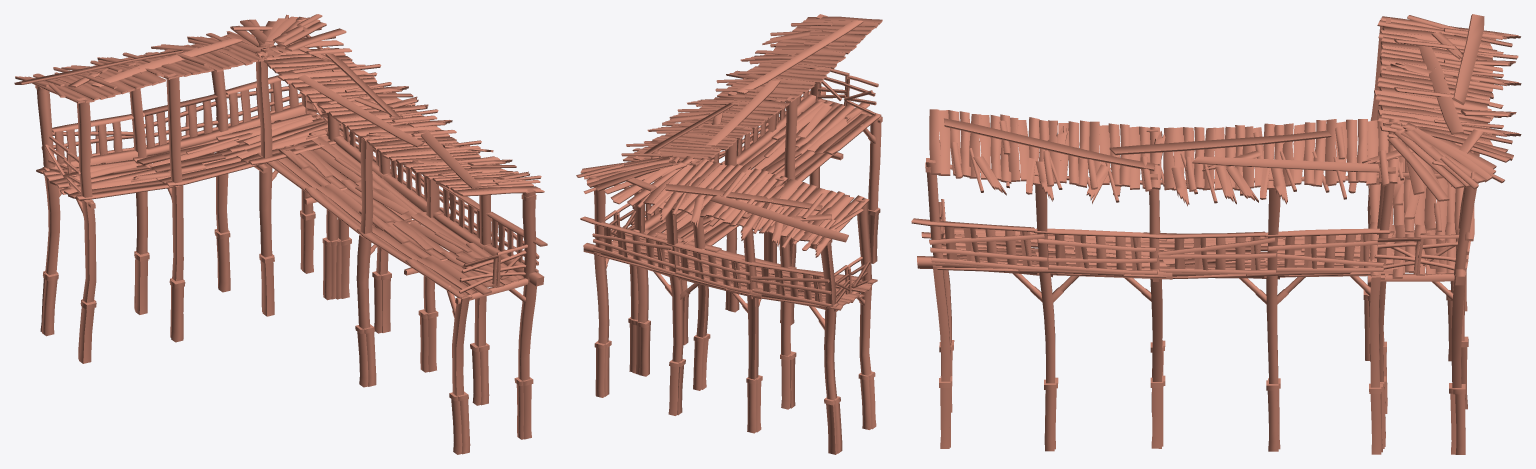
The model's file is house_07_arcade.fbx.
The picture shows the model from 3 angles, left to right: view 1: azimuth 30°, elevation 25°; view 2: azimuth 150°, elevation 25°; view 3: azimuth 270°, elevation 25°; orthographic projection. The views are drawn at different scales.
Parts seen in each view (by area): view 1: Plane.026; view 2: Plane.026; view 3: Plane.026.
Part boxes in pixels (x1,y1,x2,y2): Plane.026: (14,14,547,454); Plane.026: (576,14,882,454); Plane.026: (911,14,1521,454).
Bounding box in the file's own units: 11.79 × 9.58 × 17.62.
